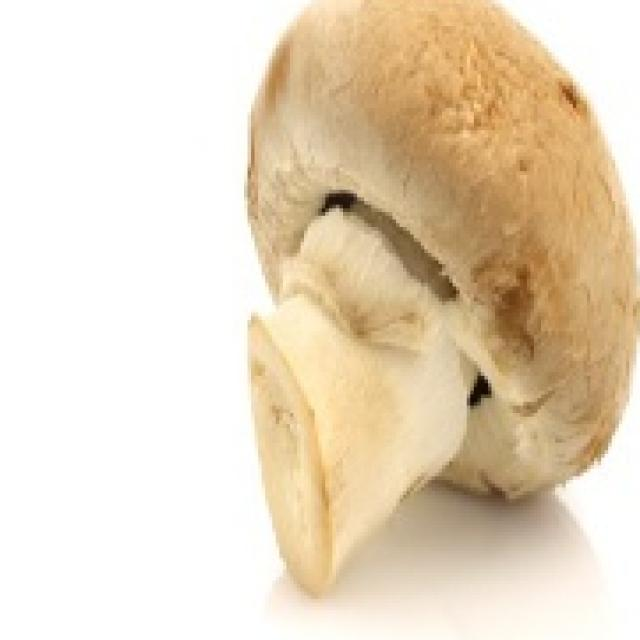mushroom: (251, 0, 640, 588)
